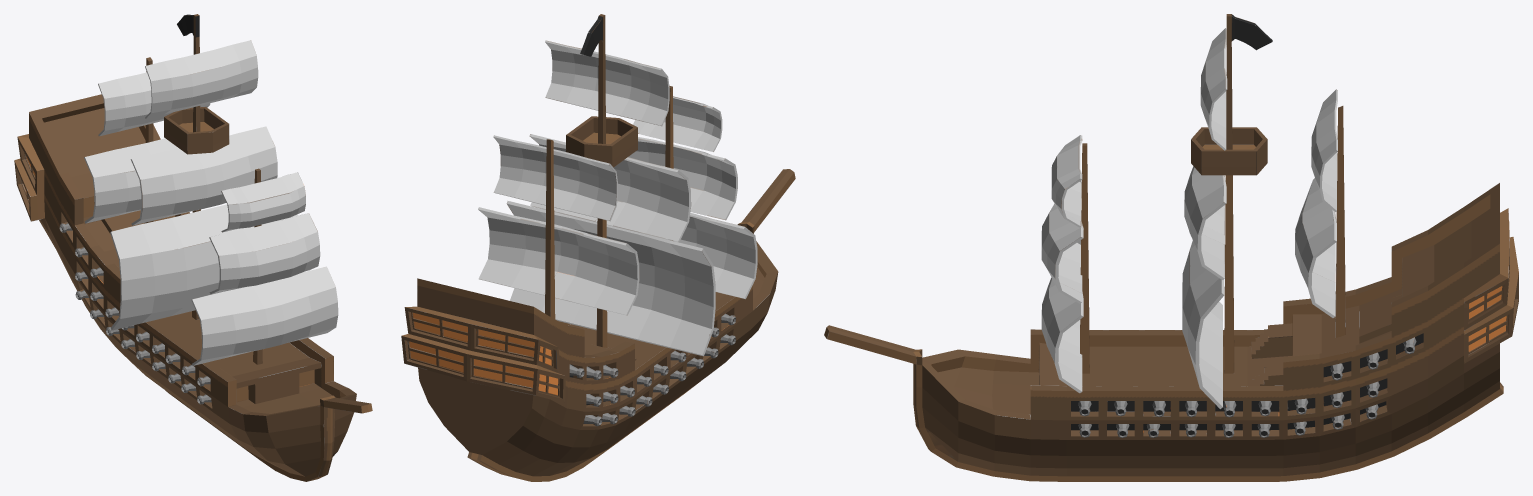
The model's file is pirate.glb.
The picture shows the model from 3 angles, left to right: view 1: azimuth 30°, elevation 25°; view 2: azimuth 150°, elevation 25°; view 3: azimuth 270°, elevation 25°; orthographic projection. The views are drawn at different scales.
Parts seen in each view (by area): view 1: Ship; view 2: Ship; view 3: Ship.
Boxes of the visible parts, <box> form: Ship: <box>14,14,372,481</box>; Ship: <box>401,14,795,481</box>; Ship: <box>824,14,1518,481</box>.
Size of the model in its own units: 336 by 708 by 962.
1 material, 1 textured.
